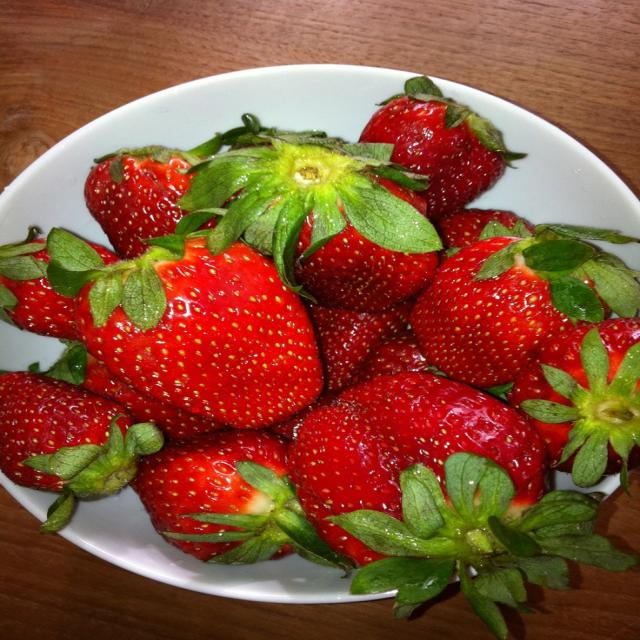strawberry: (289, 373, 638, 638), (49, 230, 322, 428), (289, 372, 546, 564), (180, 136, 440, 312), (411, 225, 639, 387), (132, 430, 348, 568), (0, 372, 163, 530), (360, 77, 523, 220), (508, 318, 639, 486), (46, 342, 226, 439), (295, 213, 439, 313), (85, 147, 199, 259), (82, 355, 226, 439), (308, 303, 410, 392), (0, 228, 76, 339), (352, 328, 435, 383), (435, 208, 533, 248)
